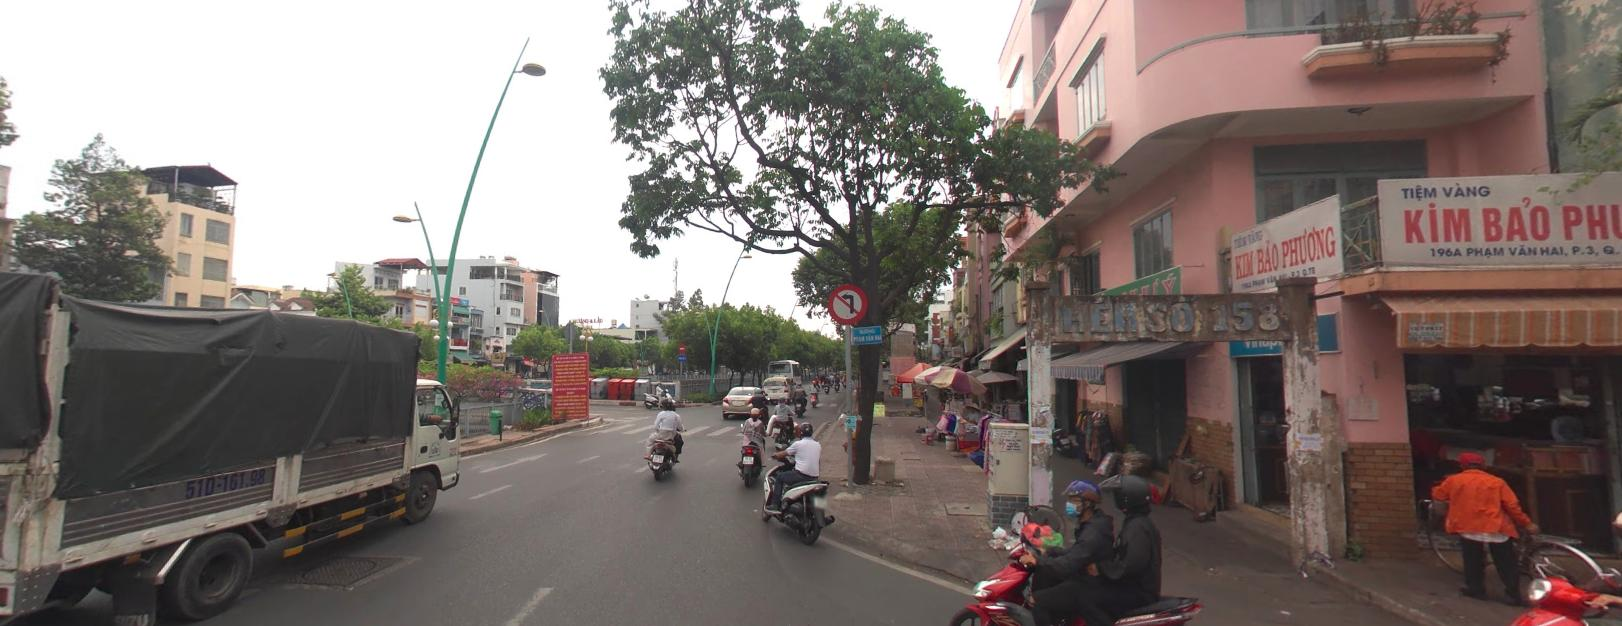Cam nguoc chieu: (679, 340, 685, 351)
Cam re: (827, 284, 867, 321)
